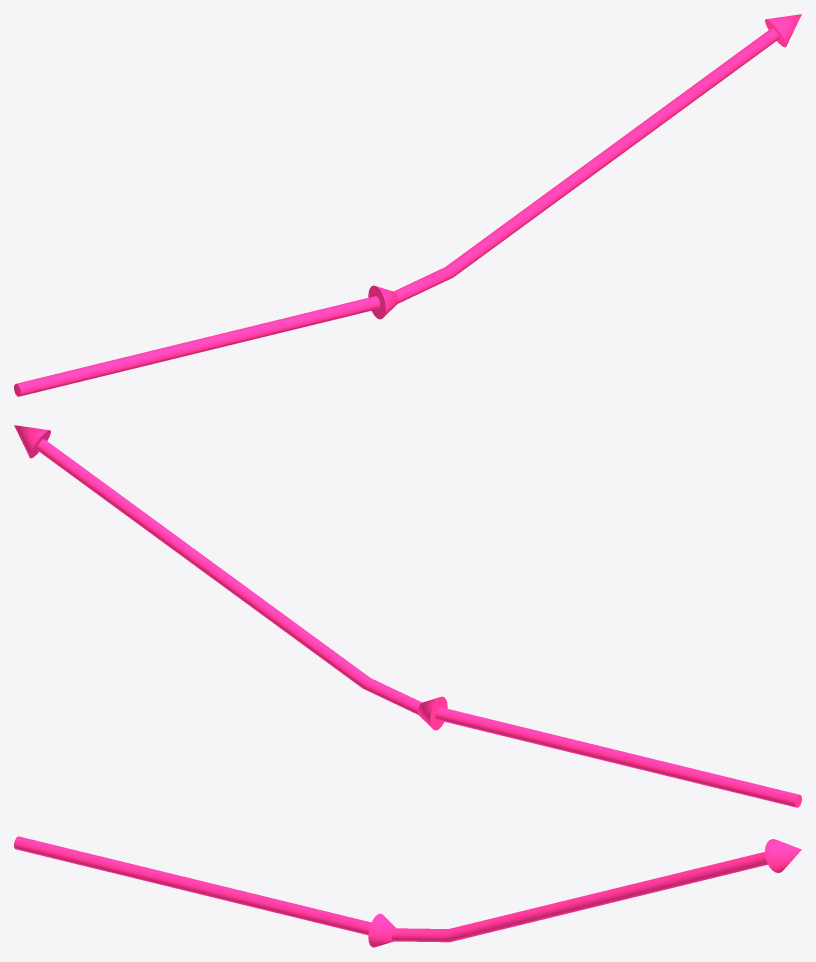
File: universal_joint_flow.glb
The picture shows the model from 3 angles, top to bottom: view 1: azimuth 30°, elevation 25°; view 2: azimuth 150°, elevation 25°; view 3: azimuth 330°, elevation 25°; orthographic projection.
Visible parts, largest first — view 1: torque; view 2: torque; view 3: torque.
Boxes of the visible parts, x1=… form: torque: x1=14, y1=14, x2=801, y2=396; torque: x1=14, y1=425, x2=801, y2=807; torque: x1=14, y1=836, x2=801, y2=947.
Bounding box in the file's own units: 0.8115 × 0.1996 × 0.0312.
